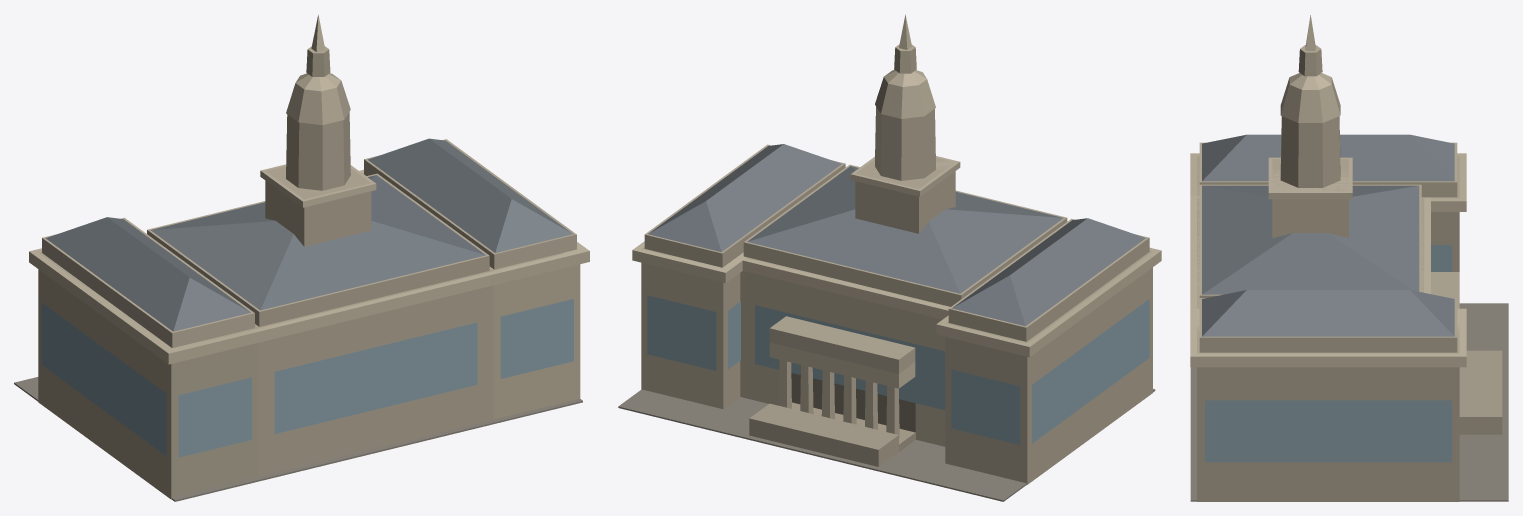
3 renders of one model, left to right at view 1: azimuth 30°, elevation 25°; view 2: azimuth 150°, elevation 25°; view 3: azimuth 270°, elevation 25°, orthographic. The views are drawn at different scales.
Visible parts, largest first — view 1: city-hall-lod2; view 2: city-hall-lod2; view 3: city-hall-lod2.
Part boxes in pixels (x1=…): city-hall-lod2: x1=14, y1=14, x2=589, y2=501; city-hall-lod2: x1=618, y1=14, x2=1161, y2=501; city-hall-lod2: x1=1190, y1=15, x2=1508, y2=501.
Size of the model in its own units: 84.6 by 75.6 by 56.07.
